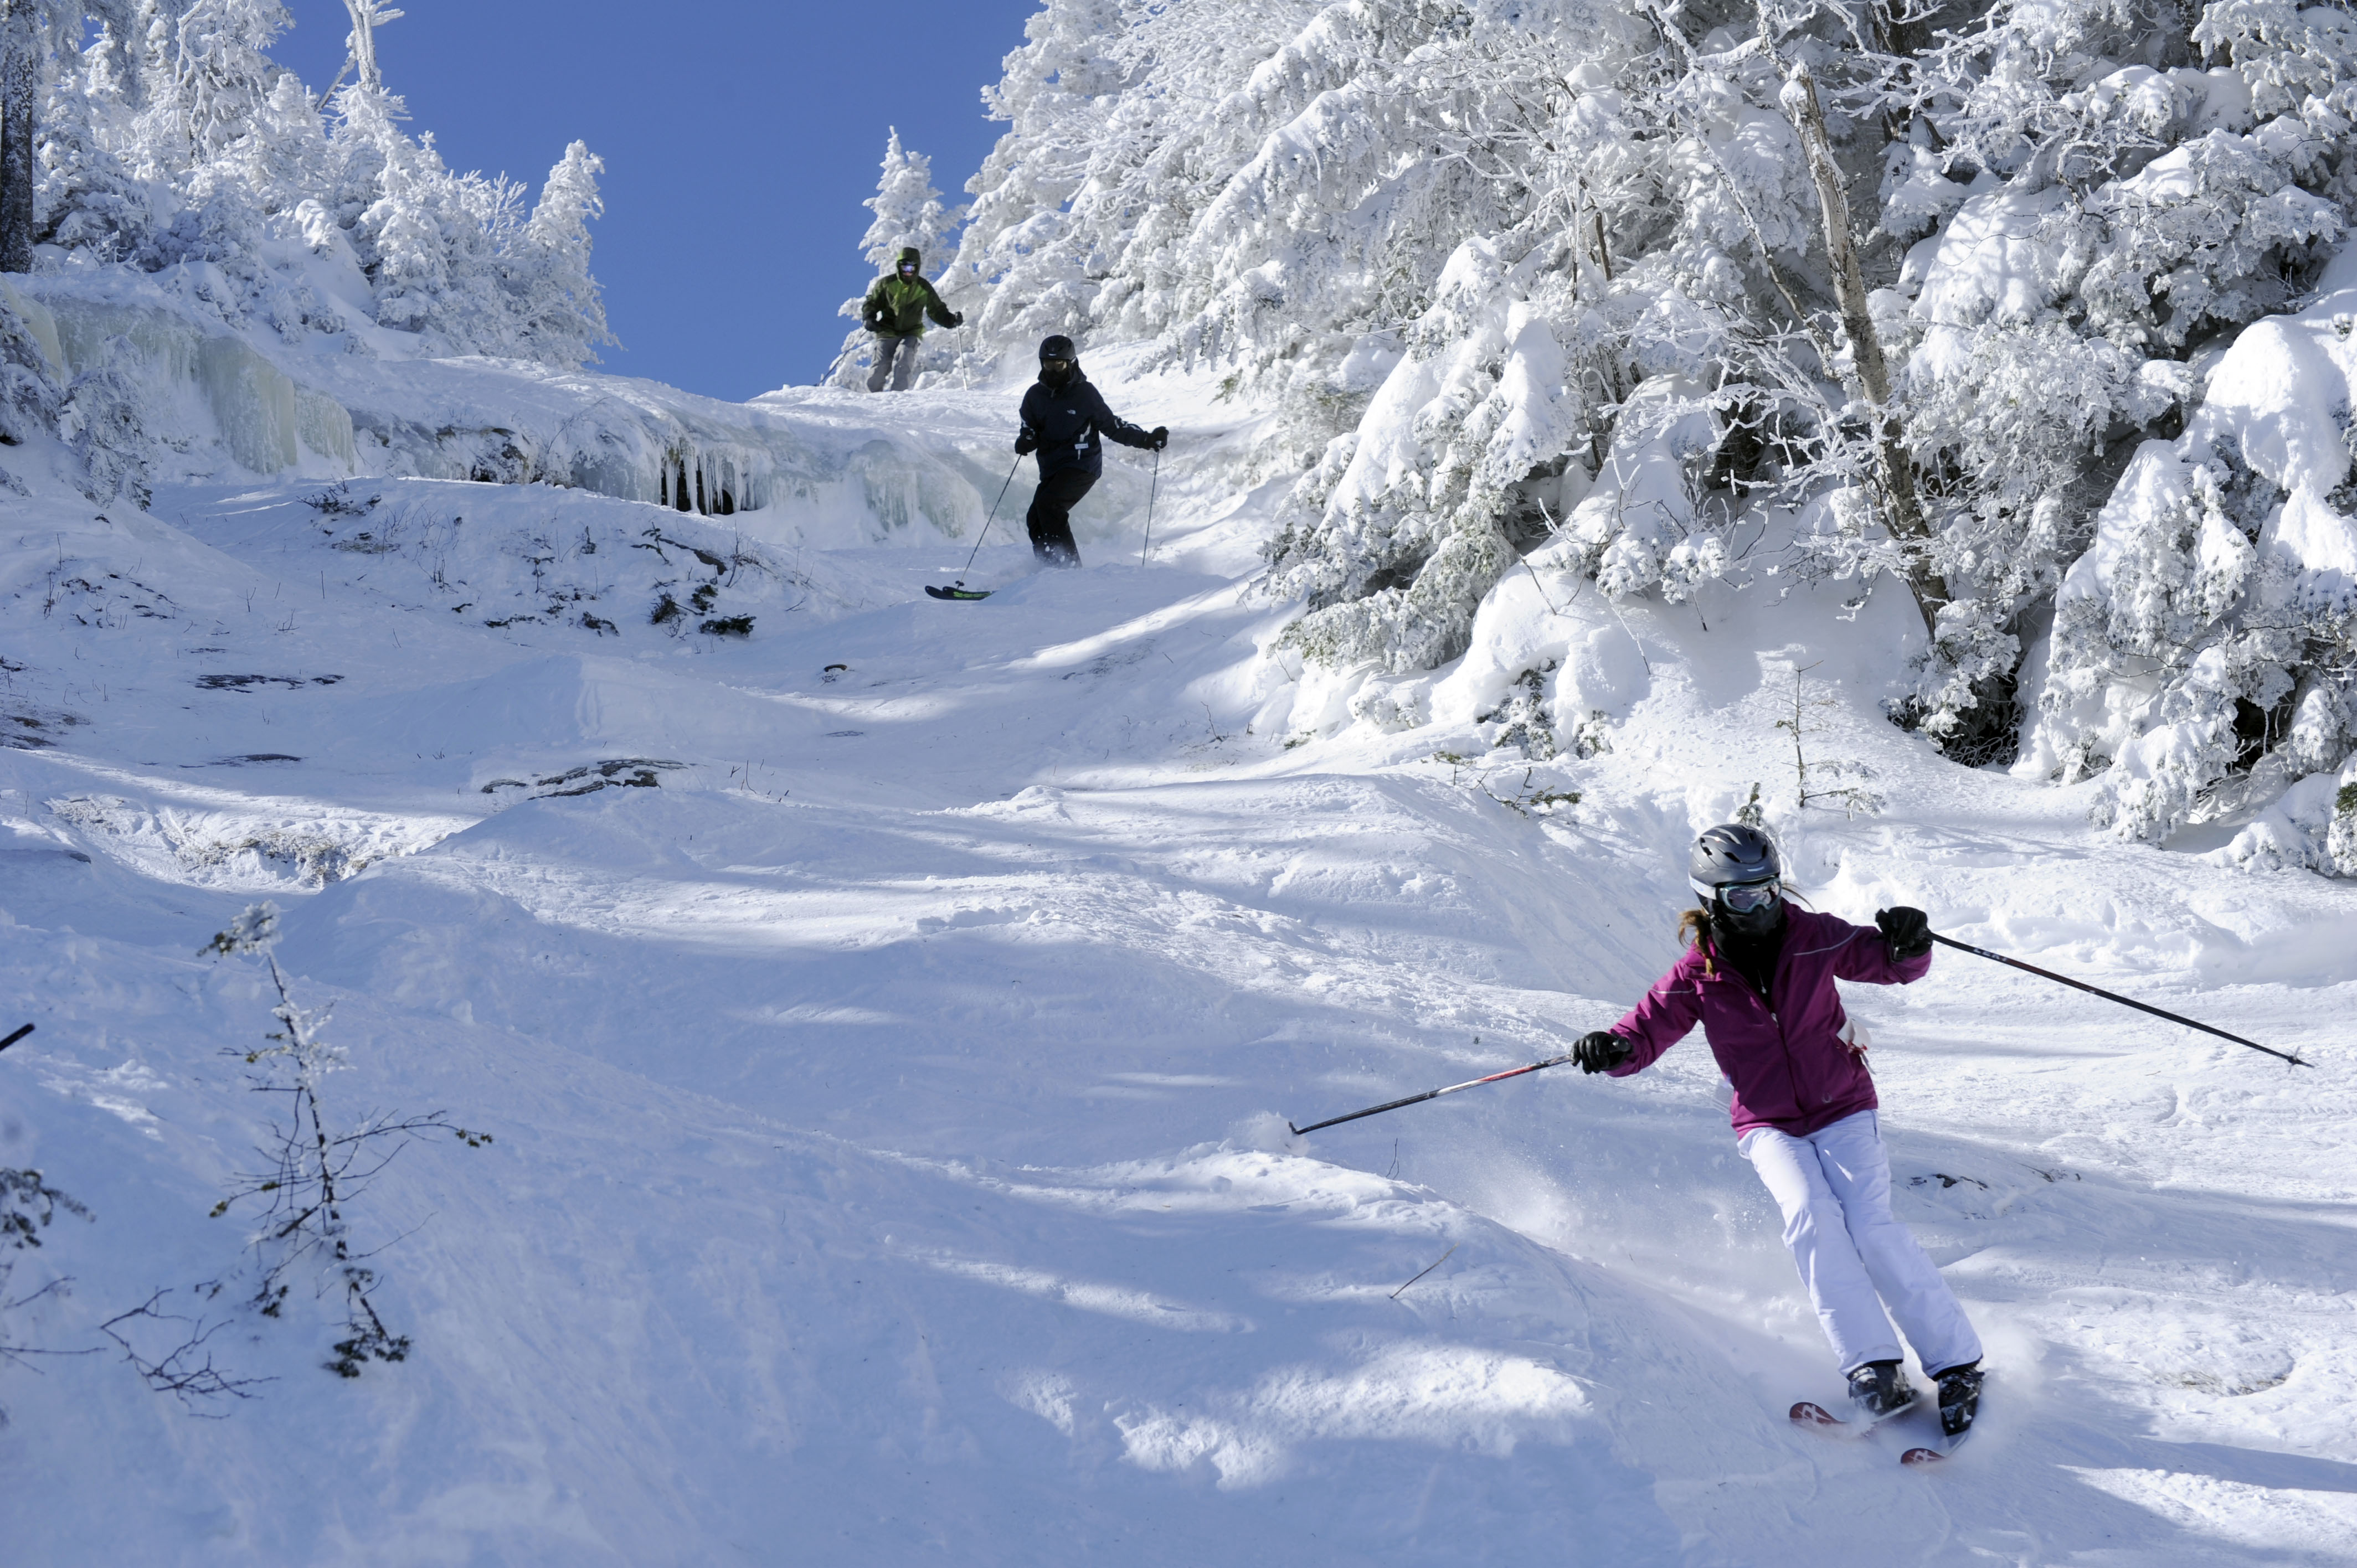skier: (1279, 817, 2326, 1482), (917, 325, 1172, 609)
